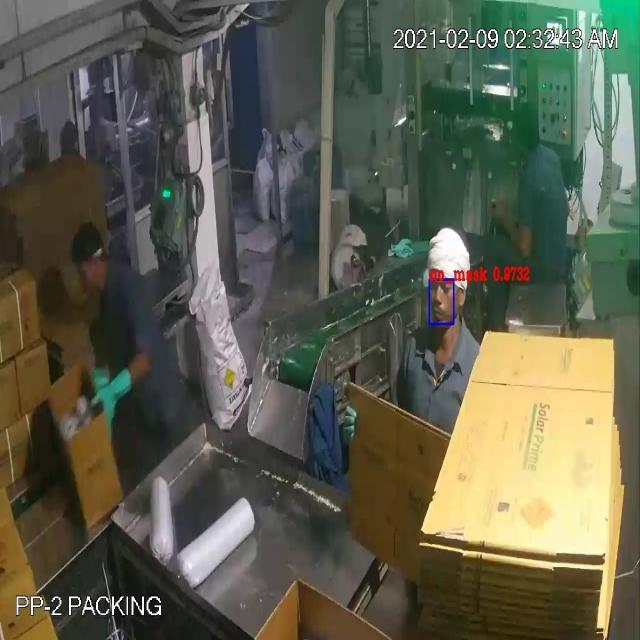Gloves: (49, 78, 512, 396)
